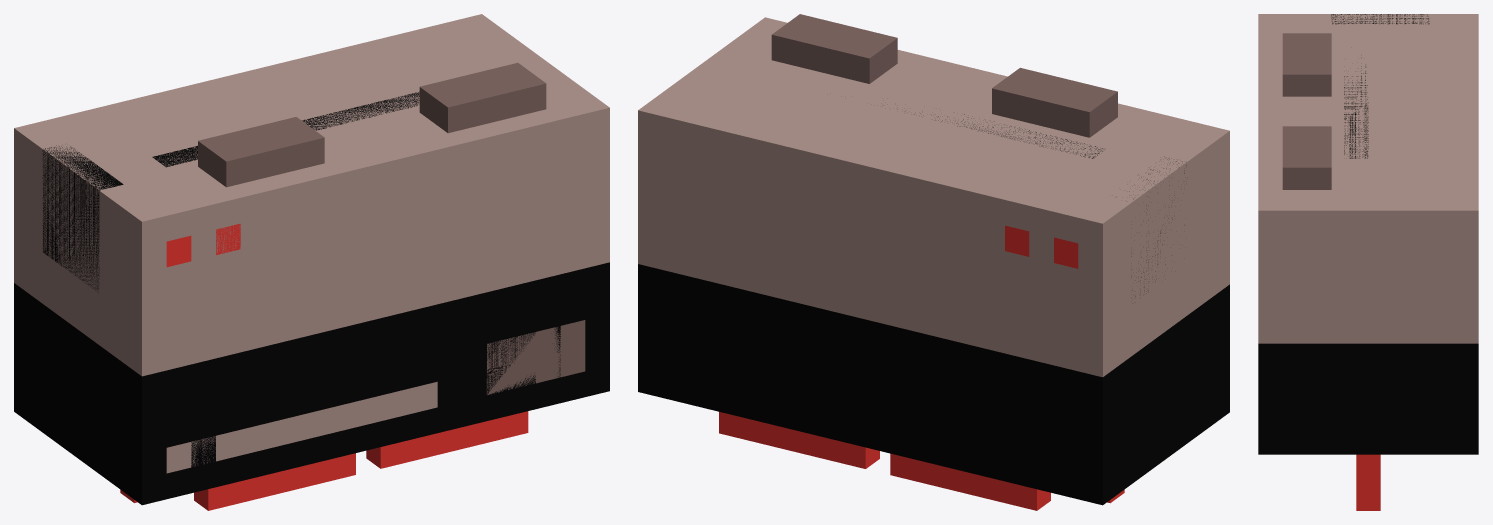
File: camerarecorder.glb
3 renders of one model, left to right at view 1: azimuth 30°, elevation 25°; view 2: azimuth 150°, elevation 25°; view 3: azimuth 270°, elevation 25°, orthographic. The views are drawn at different scales.
Parts seen in each view (by area): view 1: camrecorder, mouth, layer-1, back, tp-button, front-button, focus; view 2: camrecorder, mouth, layer-1, tp-button; view 3: camrecorder, mouth, tp-button, layer-1, focus, back.
Boxes of the visible parts, box(x1,y1,x2,y2) form: camrecorder: box(63, 14, 609, 492); mouth: box(14, 26, 560, 505); layer-1: box(120, 411, 528, 510); back: box(42, 145, 123, 292); tp-button: box(419, 62, 546, 133); front-button: box(486, 332, 535, 394); focus: box(152, 91, 419, 167); camrecorder: box(638, 17, 1177, 493); mouth: box(687, 50, 1229, 505); layer-1: box(719, 412, 1124, 510); tp-button: box(771, 14, 897, 83); camrecorder: box(1258, 33, 1478, 454); mouth: box(1258, 14, 1478, 189); tp-button: box(1282, 126, 1331, 189); layer-1: box(1356, 454, 1380, 510); focus: box(1344, 57, 1368, 158); back: box(1331, 14, 1429, 24).
Bounding box in the file's own units: 19 × 15 × 9.
17 materials, 17 textured.
